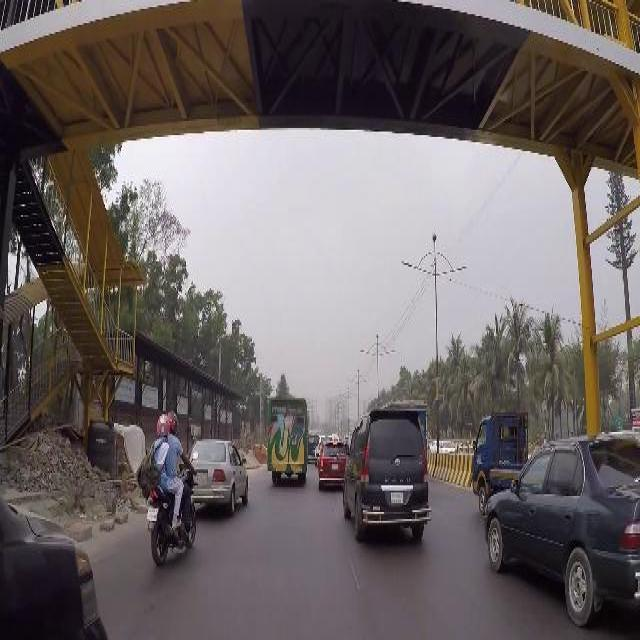10: (140, 472, 200, 566)
11: (467, 406, 535, 501)
5: (485, 428, 639, 628), (187, 427, 251, 512), (318, 435, 346, 489), (312, 428, 338, 462), (430, 434, 456, 455)
9: (0, 488, 106, 639), (340, 406, 430, 547)
Truck: (265, 390, 307, 488)
